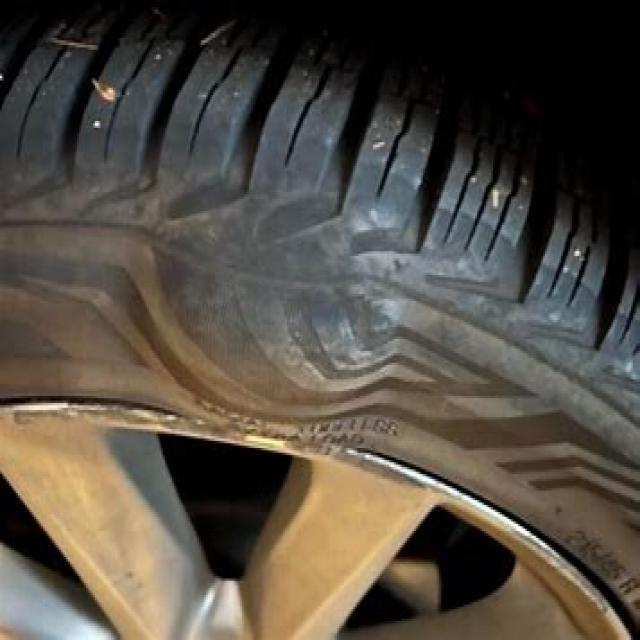Bulge: (132, 169, 408, 456)
